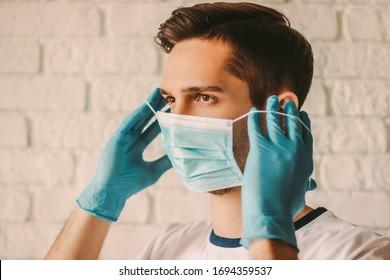gloves: (74, 87, 174, 225), (237, 95, 317, 254)
